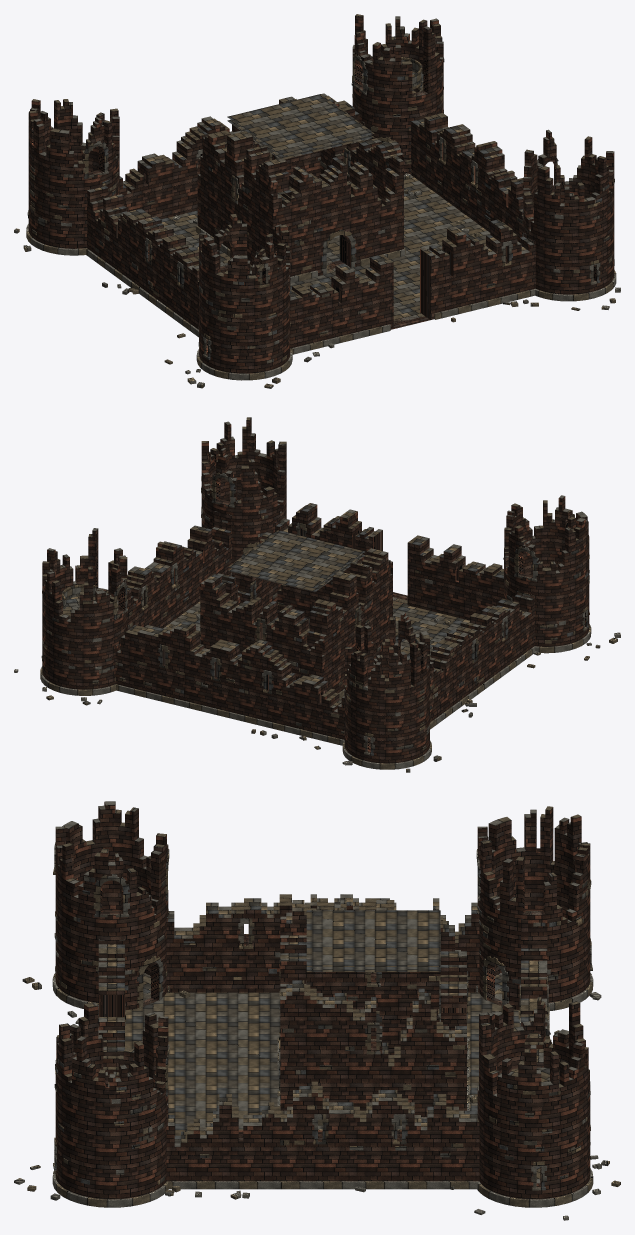
File: dungeon_castle_ruin__v1.glb
The picture shows the model from 3 angles, top to bottom: view 1: azimuth 30°, elevation 25°; view 2: azimuth 150°, elevation 25°; view 3: azimuth 270°, elevation 25°; orthographic projection. The views are drawn at different scales.
Parts seen in each view (by area): view 1: Procedural_Level_Castle; view 2: Procedural_Level_Castle; view 3: Procedural_Level_Castle.
Boxes of the visible parts, x1,y1,x2,y2 form: Procedural_Level_Castle: (14, 14, 620, 388); Procedural_Level_Castle: (14, 417, 620, 772); Procedural_Level_Castle: (14, 801, 620, 1220).
Bounding box in the file's own units: 36.65 × 10.92 × 34.44.
Materials: 2 (2 with a texture image).
